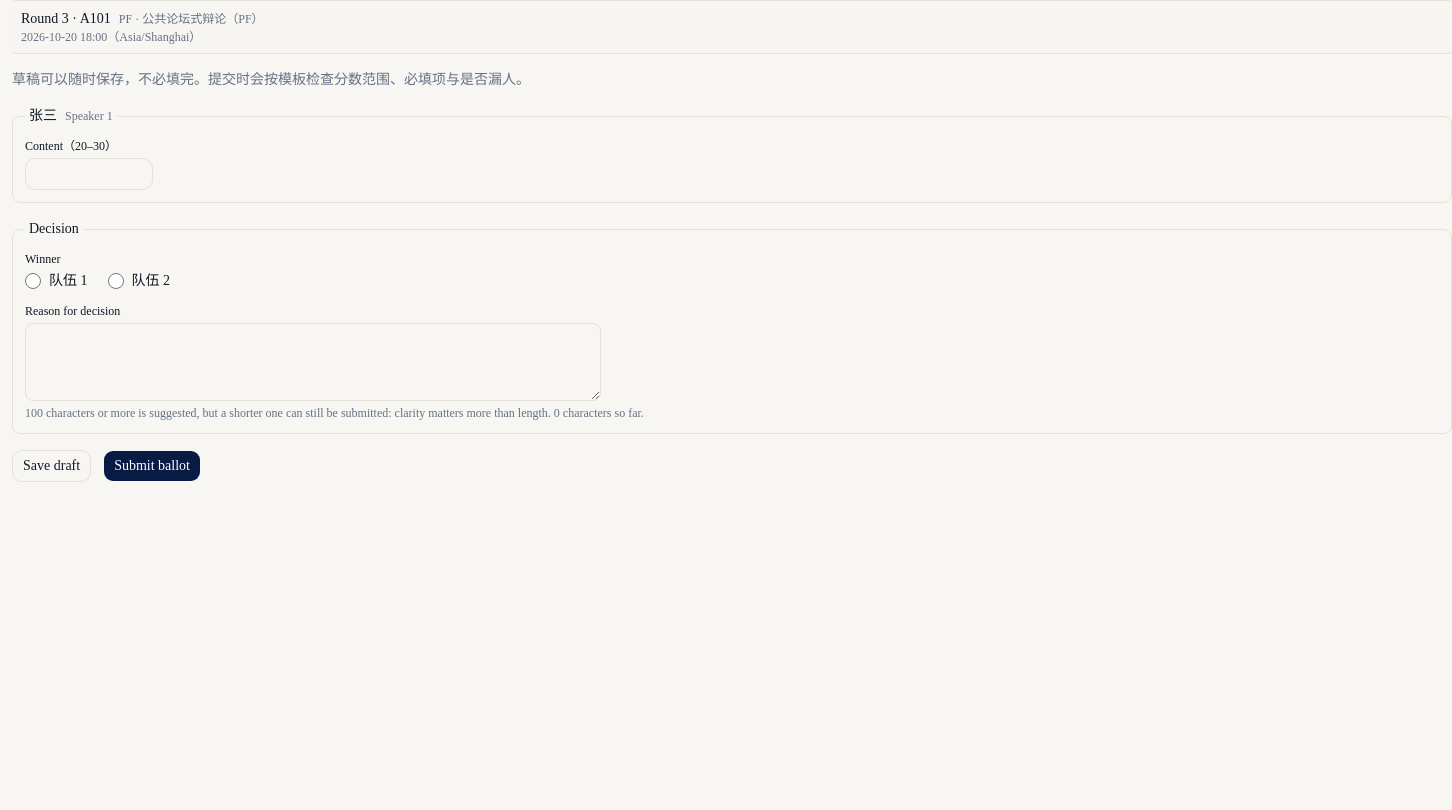
Test: 提交前的一步确认（规范 §9.3：Submission dialog） › 「返回检查」可以退回去继续改
The width and height of the screenshot is (1452, 810).
Click the button "Submit ballot".
click(152, 466)  # box left=103, top=450, right=201, bottom=482
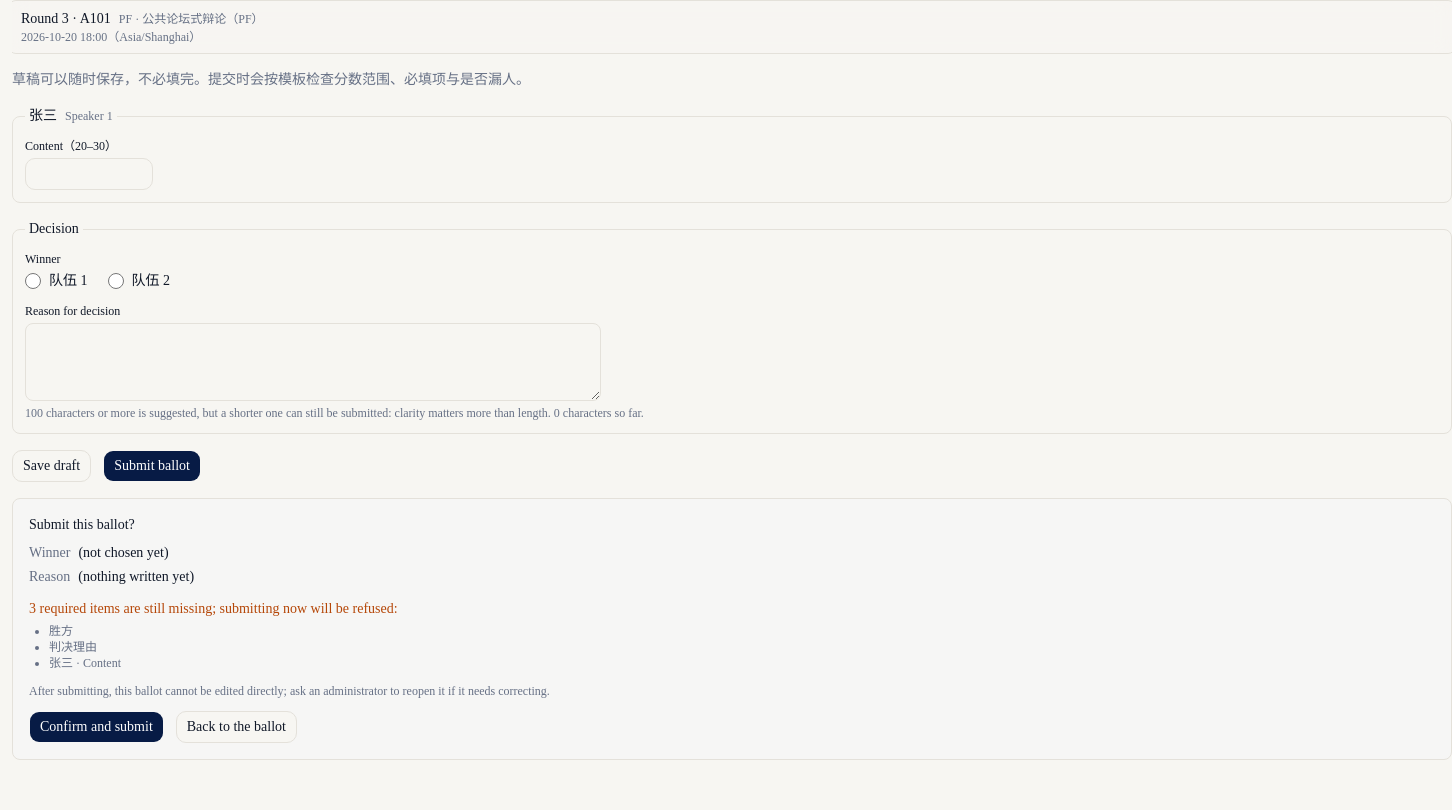
Click the button "Back to the ballot".
click(236, 727)  # box left=176, top=711, right=297, bottom=743
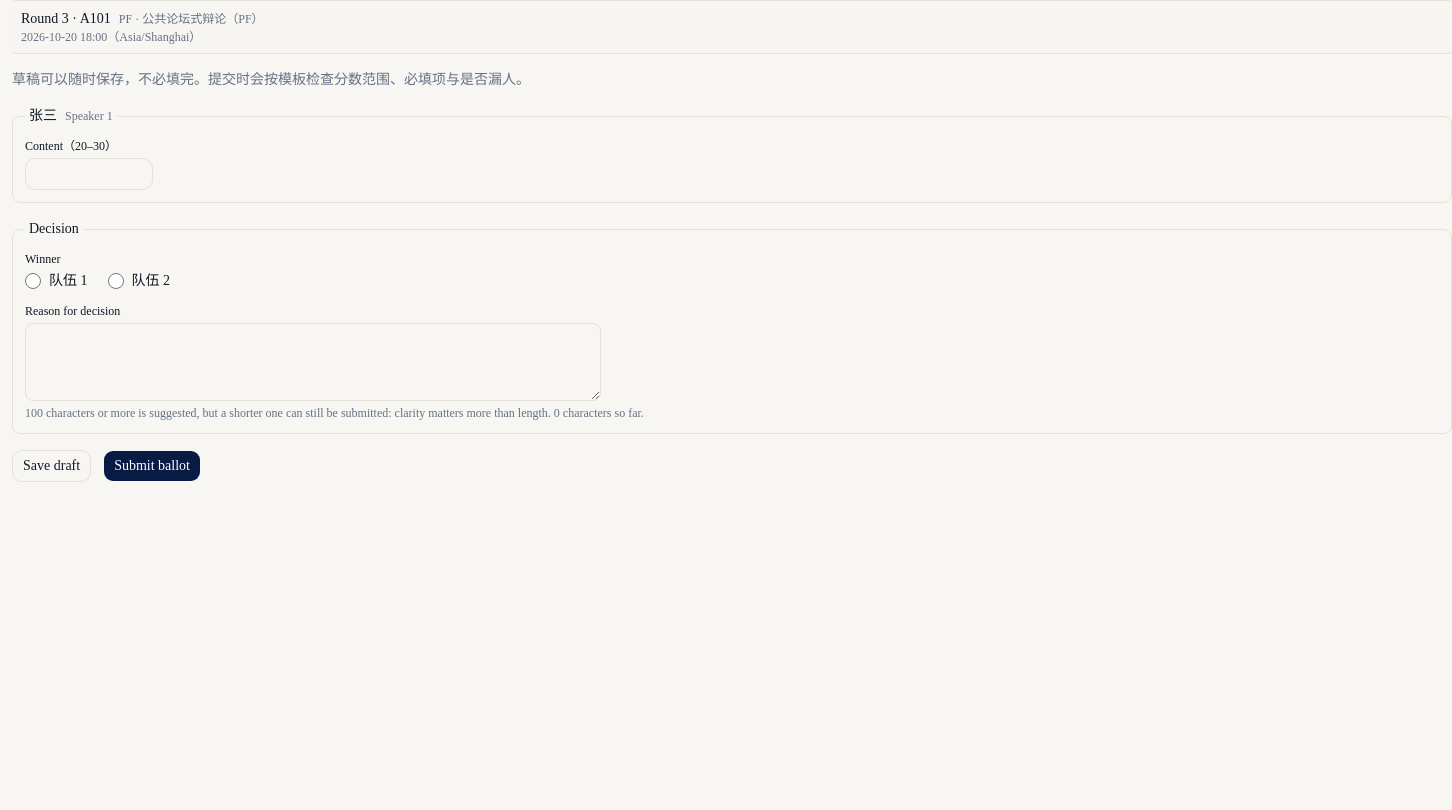
Expected: the button "Submit ballot" is shown, left=103, top=450, right=201, bottom=482
Result: the heading "Submit this ballot?" is gone
